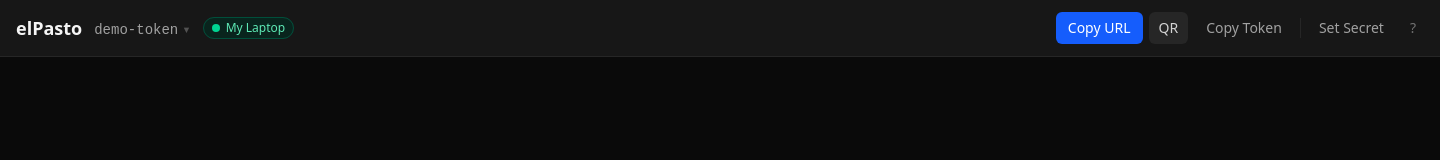
Test: SessionHeader › shows custom peer names in the peer list
What coordinates should you click on to do the following:
click the button with aria-label "Connection status"
I would click on:
 (248, 28)
Its box is [203,17,294,39].
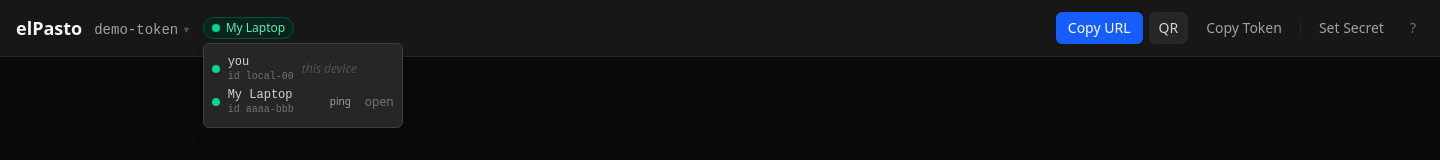
expect the button titled "Click to rename" shows "My Laptop": met, box [228,87,294,117]
